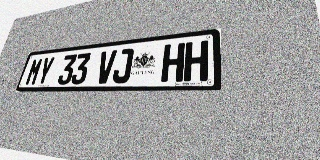3: (56, 54, 77, 85), (70, 53, 91, 84)
H: (183, 40, 208, 81), (161, 43, 185, 82)
J: (111, 48, 134, 83)
M: (24, 58, 44, 86)
V: (95, 50, 117, 84)
Y: (35, 56, 55, 85)
